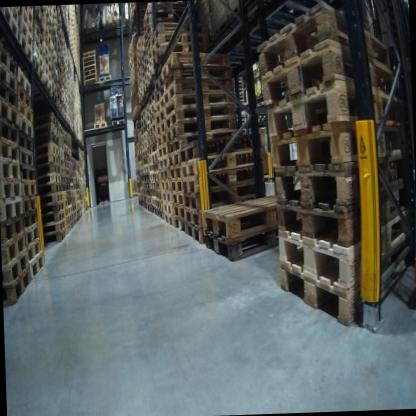pallet: (280, 234, 416, 335), (275, 202, 416, 290), (257, 39, 410, 119), (251, 7, 398, 81), (278, 189, 416, 259), (271, 149, 411, 214), (259, 107, 408, 168), (261, 82, 408, 143), (202, 219, 305, 273), (203, 190, 294, 243), (180, 146, 260, 183), (181, 165, 264, 200), (181, 181, 266, 210), (159, 49, 234, 79), (162, 89, 238, 118), (167, 115, 235, 146), (162, 77, 233, 105), (165, 105, 237, 132), (149, 20, 211, 51), (167, 131, 246, 155), (152, 30, 207, 61), (151, 43, 209, 70), (162, 70, 229, 91), (2, 271, 33, 313), (143, 2, 186, 29), (1, 232, 30, 271), (3, 250, 31, 290), (142, 13, 186, 35), (0, 189, 26, 226), (1, 215, 27, 250), (0, 87, 21, 130), (0, 53, 19, 97), (0, 40, 19, 81), (0, 128, 20, 165), (0, 111, 21, 145), (15, 62, 33, 99), (0, 77, 19, 111), (0, 9, 20, 41), (0, 152, 22, 180), (15, 35, 34, 67), (183, 207, 204, 233), (18, 129, 39, 155), (0, 176, 24, 198), (29, 56, 45, 88), (17, 109, 38, 133), (37, 183, 63, 202), (28, 252, 48, 276), (19, 18, 35, 48), (16, 145, 39, 165), (186, 219, 203, 246), (25, 219, 44, 243), (39, 202, 65, 219), (39, 191, 64, 208), (30, 41, 45, 69), (18, 98, 36, 121), (19, 10, 34, 37), (36, 163, 61, 179), (43, 229, 67, 245), (21, 181, 40, 201), (37, 112, 59, 129), (41, 211, 65, 226), (18, 165, 39, 182), (36, 172, 63, 185), (42, 218, 67, 232), (36, 134, 59, 149), (172, 217, 188, 238), (18, 85, 32, 109), (36, 143, 60, 157), (171, 191, 189, 209), (24, 238, 43, 255), (37, 155, 60, 169), (33, 30, 44, 59), (166, 152, 181, 173), (41, 73, 53, 99), (37, 123, 59, 137), (157, 139, 171, 161), (22, 200, 41, 216), (154, 106, 168, 127), (32, 8, 46, 29), (38, 7, 52, 28), (6, 8, 22, 26), (24, 213, 43, 228), (172, 204, 188, 221), (156, 120, 170, 137), (157, 129, 169, 148), (171, 177, 184, 194), (169, 165, 182, 182), (159, 152, 172, 169), (89, 120, 107, 132), (154, 99, 166, 117), (36, 24, 45, 48), (158, 166, 169, 185), (154, 72, 166, 89), (134, 37, 146, 53), (144, 47, 154, 66), (111, 117, 127, 128), (154, 84, 165, 100), (44, 55, 53, 74), (45, 28, 54, 47), (162, 187, 172, 204), (143, 25, 153, 42), (146, 68, 156, 85), (44, 62, 52, 83), (42, 32, 51, 50), (97, 73, 113, 83), (83, 77, 99, 87), (44, 40, 51, 62), (161, 178, 171, 193), (25, 7, 34, 23), (163, 210, 173, 224), (45, 16, 52, 36), (149, 123, 159, 137), (58, 145, 66, 162), (83, 49, 98, 58), (83, 67, 98, 76), (143, 59, 152, 74), (150, 203, 159, 218), (136, 46, 145, 61), (144, 37, 151, 56), (148, 111, 156, 127), (148, 89, 156, 105), (83, 63, 97, 72), (164, 200, 172, 215), (83, 59, 98, 67), (152, 148, 160, 163), (151, 196, 160, 209), (141, 139, 150, 152), (152, 171, 160, 185), (136, 54, 144, 68), (144, 80, 151, 96), (156, 200, 164, 213), (155, 181, 163, 194), (151, 131, 159, 144), (147, 203, 155, 216), (57, 123, 64, 137), (82, 54, 96, 61), (61, 128, 69, 140), (152, 142, 160, 154), (148, 104, 156, 116), (138, 90, 145, 103), (84, 72, 99, 78), (140, 107, 146, 122), (142, 148, 151, 158), (152, 161, 160, 172), (148, 161, 156, 172), (140, 132, 148, 143), (143, 163, 151, 174), (148, 147, 155, 159), (145, 188, 152, 200), (142, 72, 148, 86), (148, 155, 157, 164), (146, 138, 155, 147), (62, 145, 70, 155), (138, 82, 144, 95), (137, 68, 144, 79), (151, 190, 160, 198), (150, 182, 158, 191), (64, 168, 71, 178), (150, 172, 157, 182), (140, 118, 147, 128), (140, 126, 147, 136), (144, 172, 151, 182), (59, 163, 65, 174), (158, 208, 164, 219), (59, 183, 66, 192), (66, 205, 73, 214), (66, 199, 73, 208), (66, 190, 73, 199), (156, 189, 163, 198), (142, 156, 149, 165), (137, 63, 144, 72), (58, 141, 64, 151), (59, 157, 65, 167), (59, 174, 65, 184), (66, 225, 71, 237), (59, 132, 63, 146), (65, 182, 72, 190), (69, 220, 74, 231), (137, 76, 142, 86), (64, 161, 71, 168), (64, 217, 70, 225), (65, 175, 71, 183), (147, 195, 152, 204), (63, 192, 67, 203), (63, 155, 70, 161), (145, 181, 151, 188), (63, 203, 68, 211), (62, 140, 69, 145), (64, 211, 68, 218), (69, 215, 74, 220)
